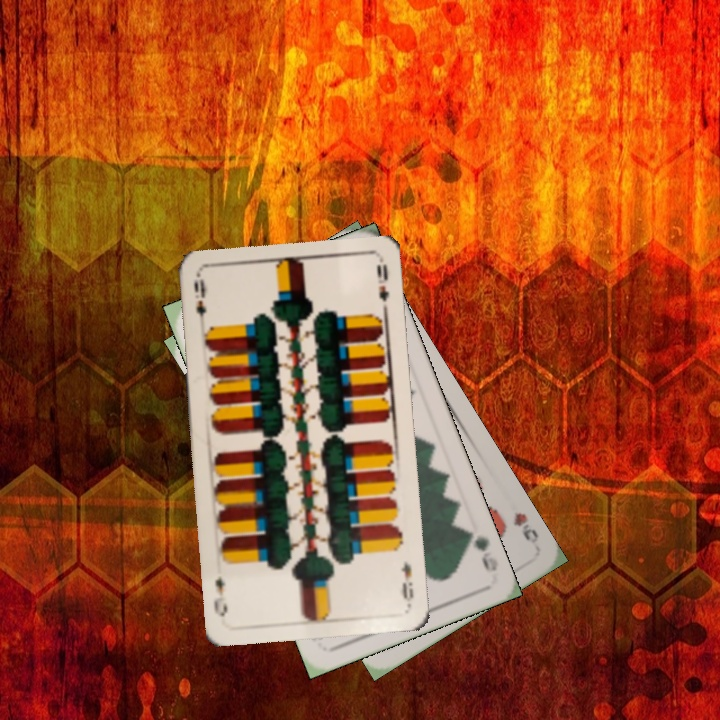E9: (190, 275, 209, 332), (397, 558, 416, 607)
G9: (460, 525, 501, 575)
H9: (509, 508, 541, 547)
